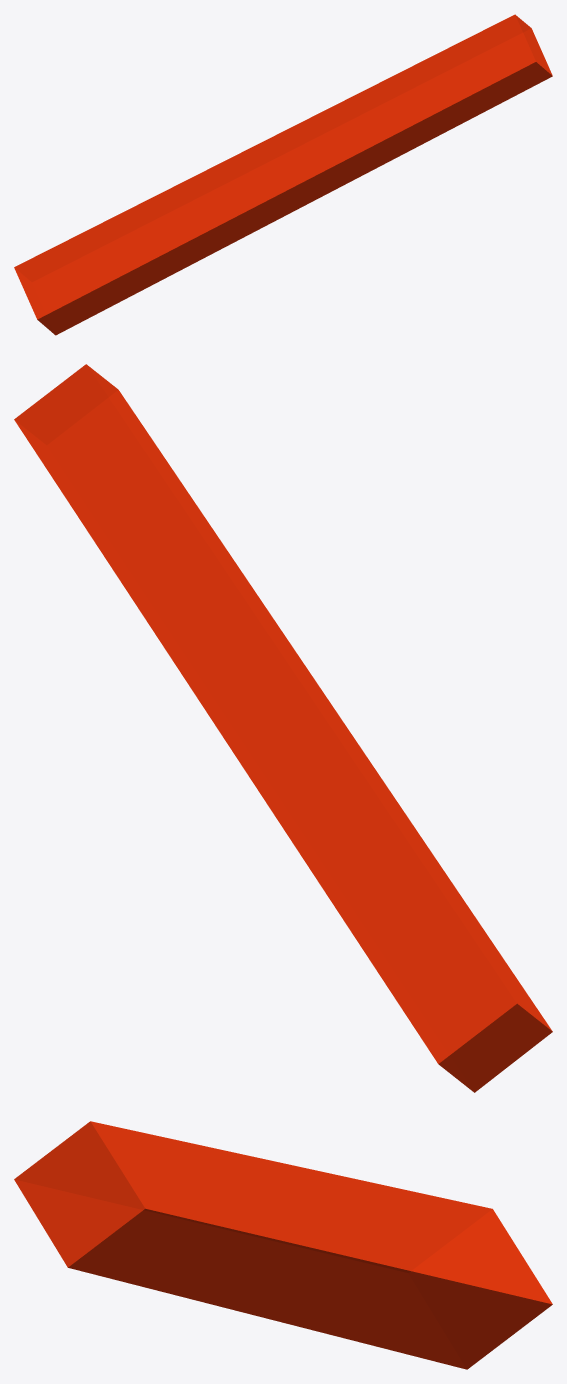
The model's file is Event_421364160_EBrechit_8.fbx.
3 renders of one model, top to bottom at view 1: azimuth 30°, elevation 25°; view 2: azimuth 150°, elevation 25°; view 3: azimuth 270°, elevation 25°, orthographic. The views are drawn at different scales.
Visible parts, largest first — view 1: Model; view 2: Model; view 3: Model.
Part boxes in pixels (left/top/right/bottom): Model: left=14, top=14, right=552, bottom=335; Model: left=14, top=364, right=552, bottom=1092; Model: left=14, top=1121, right=552, bottom=1369.
Size of the model in its own units: 0.4912 by 0.3451 by 0.2988.
